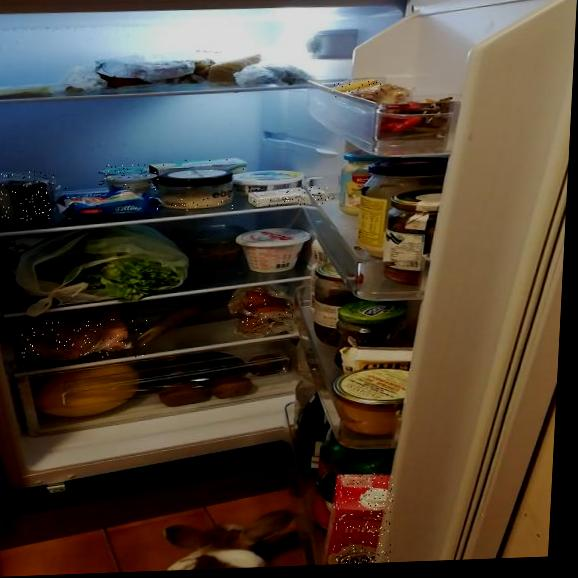apple: (232, 300, 294, 335), (228, 290, 286, 312)
butter: (248, 186, 331, 209)
carrots: (19, 317, 147, 362)
cheese: (55, 185, 149, 219), (0, 171, 55, 222), (155, 189, 233, 212)
lemon: (332, 81, 383, 98)
milk: (331, 471, 395, 565)
yoghurt: (154, 158, 250, 177), (98, 163, 149, 194), (105, 171, 159, 198)
